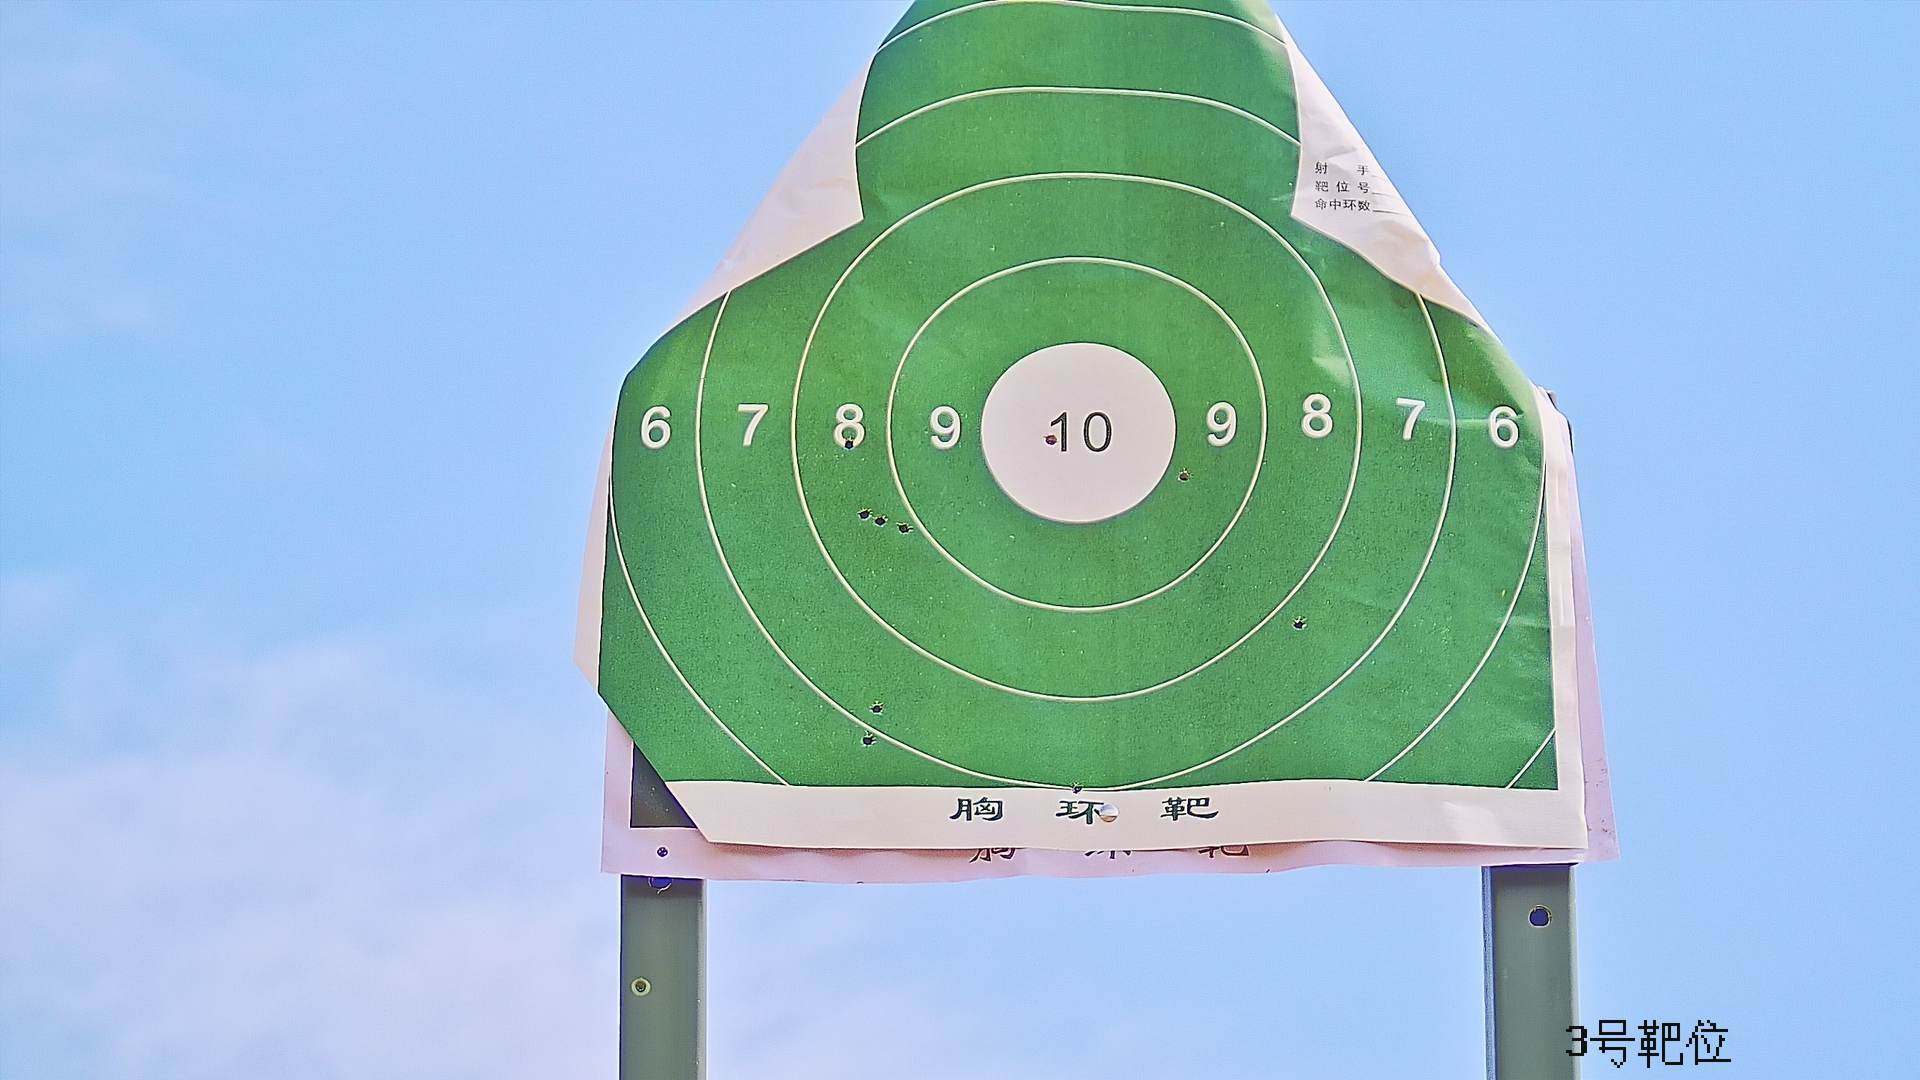hole: (1294, 617, 1308, 632), (862, 731, 874, 748), (1043, 434, 1058, 446), (872, 700, 884, 713), (1178, 469, 1191, 480), (858, 508, 869, 520), (898, 521, 909, 533), (845, 439, 855, 450), (876, 516, 886, 525), (1072, 783, 1083, 793)
kernel: (1069, 429, 1075, 430)
target: (603, 1, 1555, 790)
ten: (978, 338, 1179, 527)
